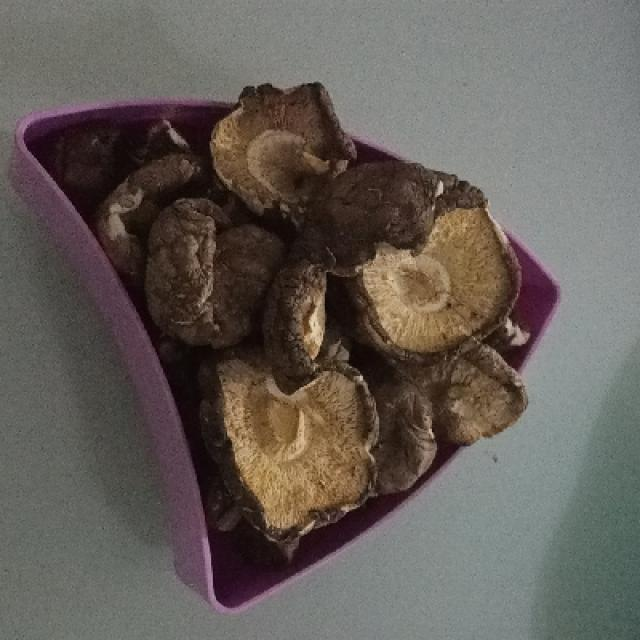Lentinus edodes: (200, 351, 387, 553), (352, 182, 520, 367), (208, 81, 359, 228), (143, 198, 279, 354), (265, 252, 331, 383)
